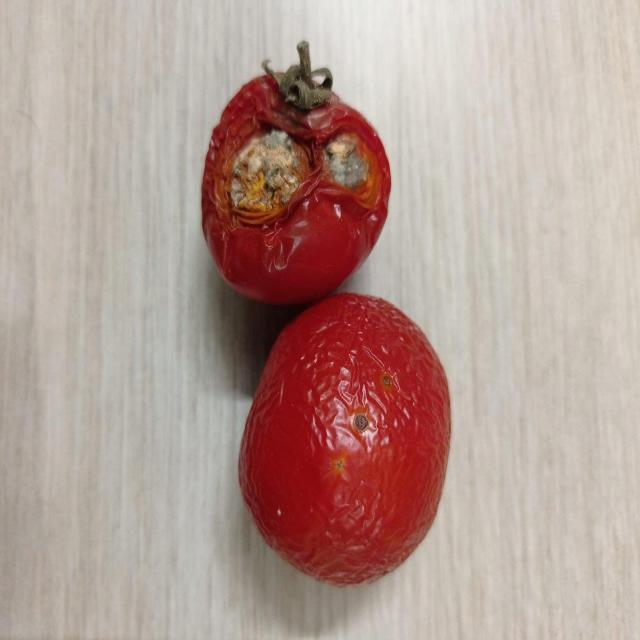Rotten: (206, 68, 389, 302)
overripe: (239, 288, 450, 588)
